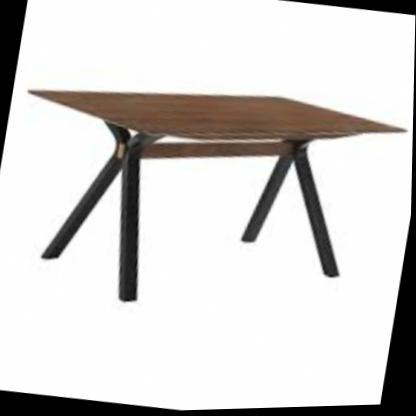Table: (0, 49, 415, 346)
